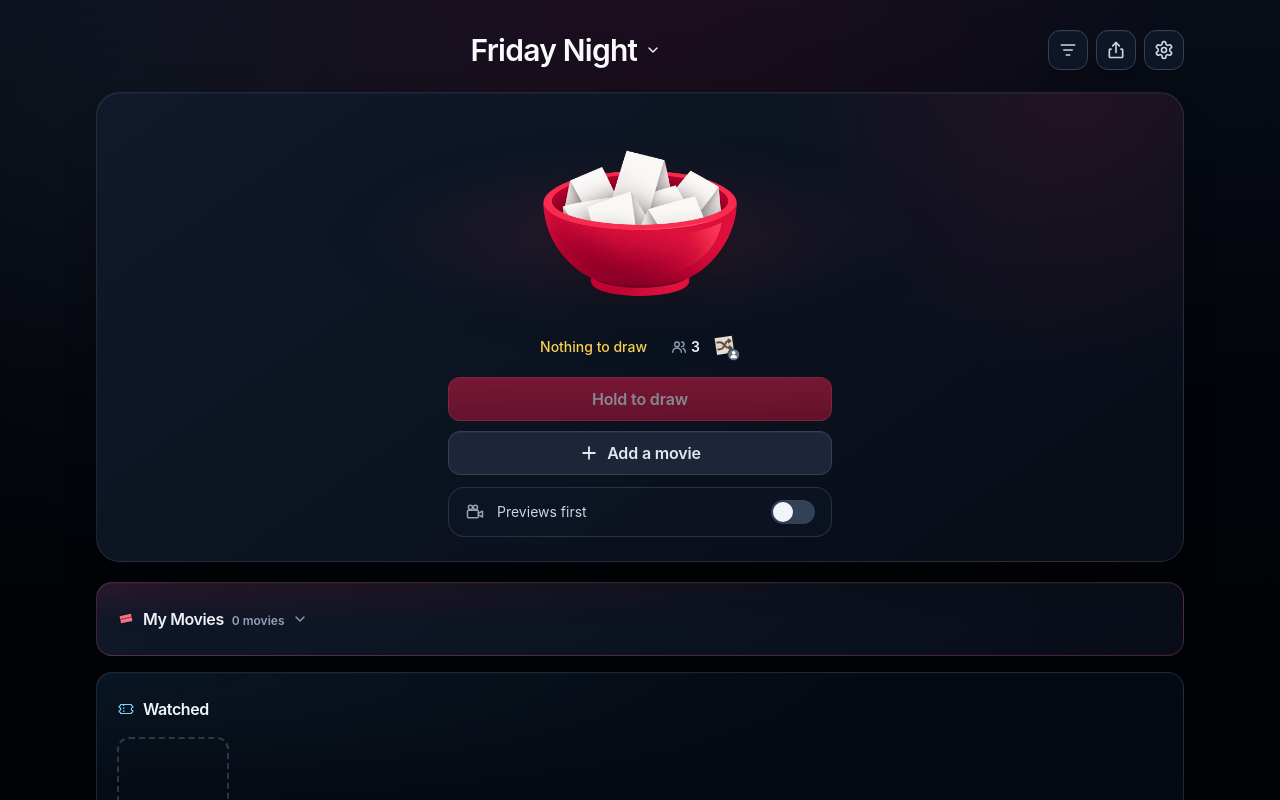
BowlDashboard bowl picker › groups owned and shared bowls with undrawn counts and state markers
What coordinates should you click on to do the following:
click the button with aria-label "switch bowl"
I would click on:
 (566, 50)
Its box is [462, 28, 669, 72].
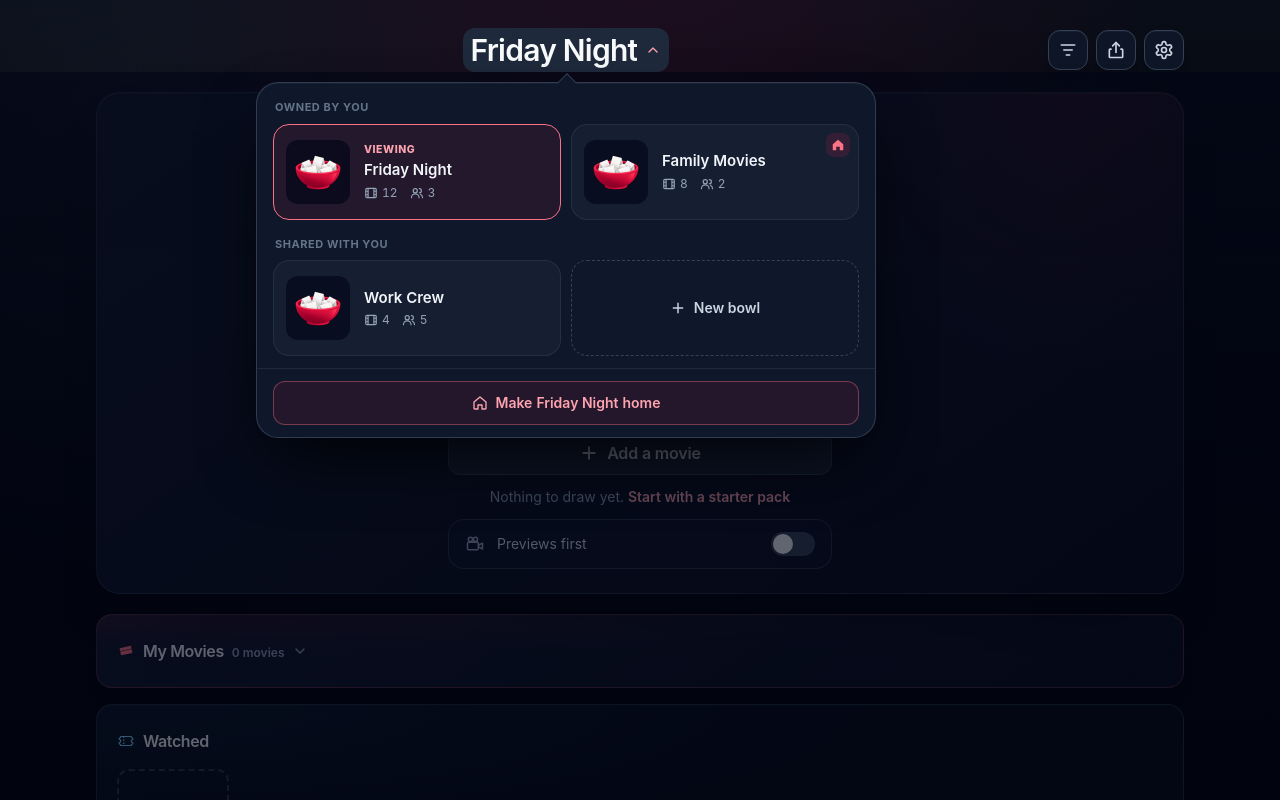
Expected: the heading "Owned by you" is shown, [275, 100, 369, 114]
Expected: the heading "Shared with you" is shown, [275, 236, 388, 250]
Expected: the button with aria-label "Family Movies, home bowl" is shown, [571, 124, 859, 220]
